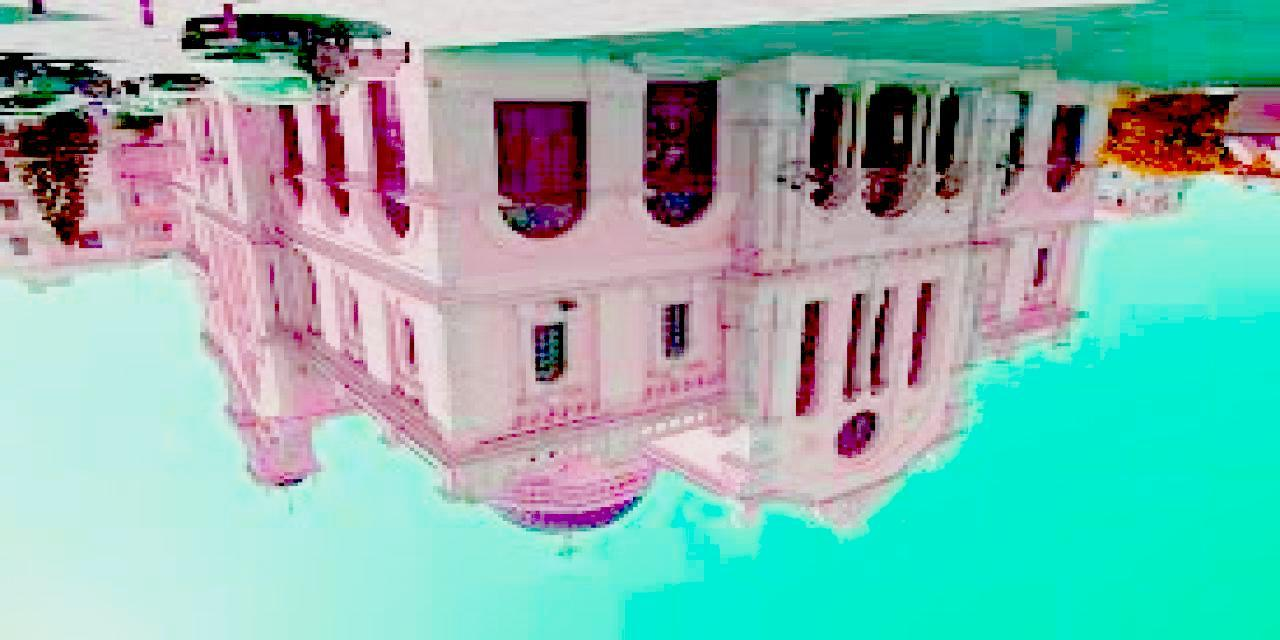Agios Minas: (158, 68, 1129, 632)
